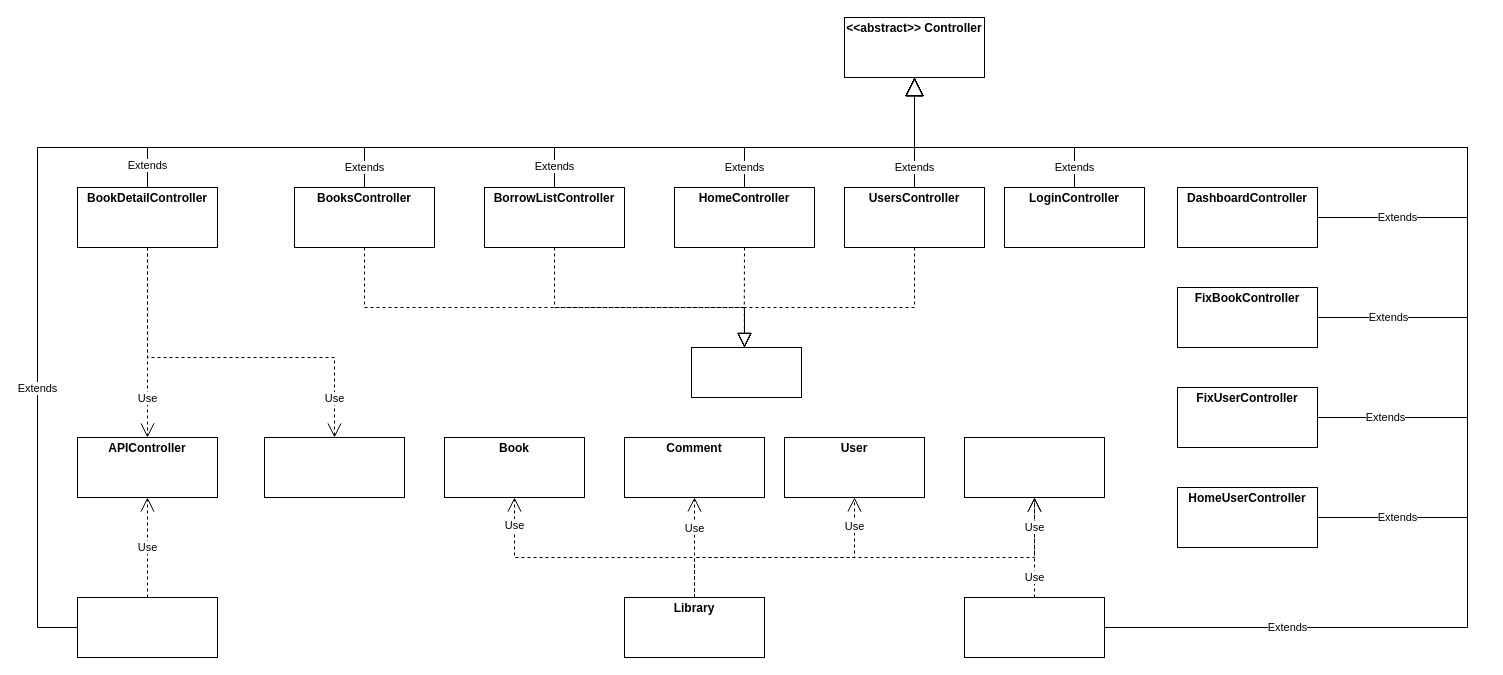
Some shapes in this 1503 by 675 pixel diagram are drawn without their labels. The centre of each missing label's shape, as x and y in pixels:
AddBookController: the point at 147,627
BorrowBookController: the point at 1034,627
Borrowed: the point at 1034,467
QRCodeGenerator: the point at 334,467
«interface» Initializable: the point at 746,372
